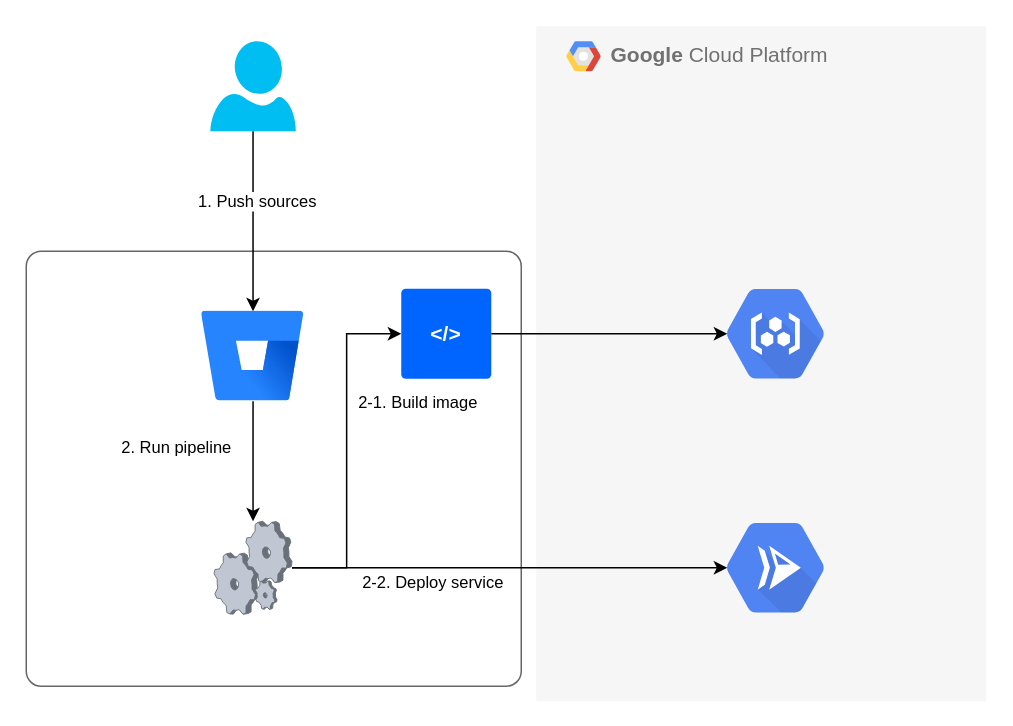
Some shapes in this 1013 by 726 pixel diagram are drawn without their labels. Here are the shapes that lost their labels. From the top down, the centre of each, then its label:
At (774,333): "Container Registry".
At (774,567): "Cloud Run".
